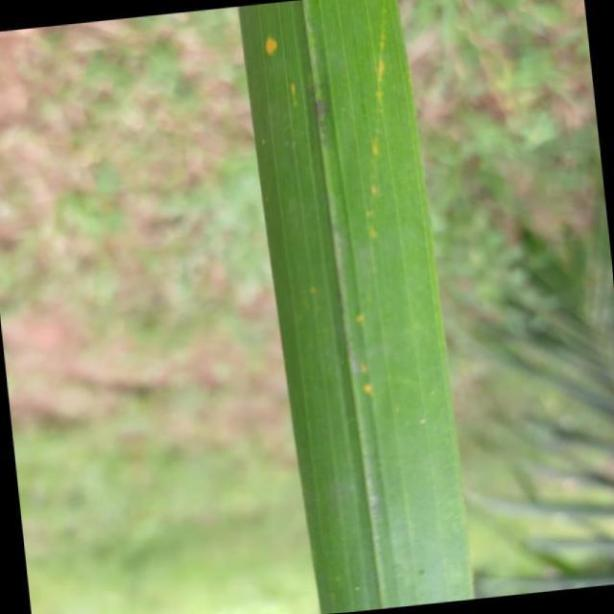Kalium: (242, 0, 476, 614)
